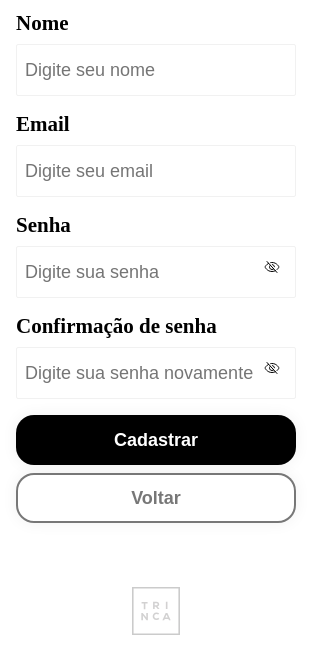
Scenario: SignIn › should hide errors after filling in the fields
Click the button "Cadastrar": (156, 440) x1=16 y1=415 x2=296 y2=465
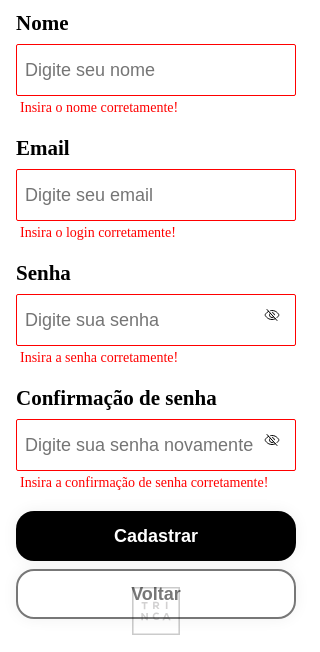
Now the text "Insira o login corretamente!" is shown, box x1=20 y1=225 x2=176 y2=240
Now the text "Insira a senha corretamente!" is shown, box x1=20 y1=350 x2=178 y2=365
In the field with placeholder "Digite seu email": (156, 195) x1=16 y1=169 x2=296 y2=221, type "teste@email.com"
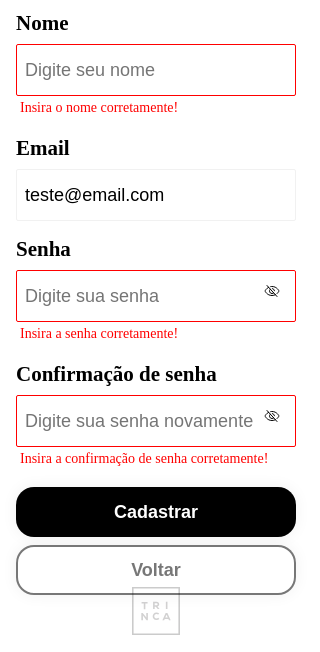
In the password field with placeholder "Digite sua senha": (156, 296) x1=16 y1=270 x2=296 y2=322, type "123456"
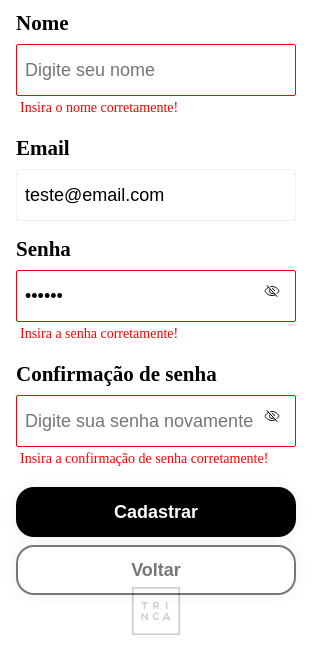
Click the button "Cadastrar": (156, 512) x1=16 y1=487 x2=296 y2=537
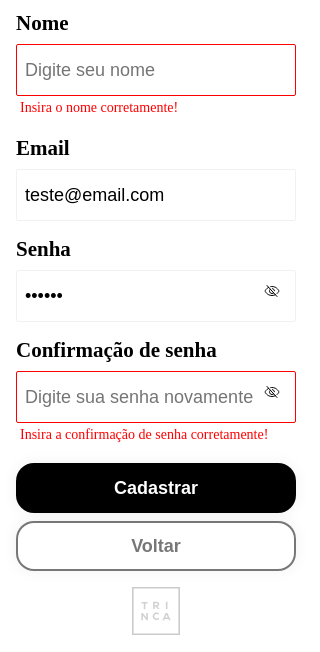
Expected: the text "Insira o login corretamente!" is not shown
Now the text "Insira a senha corretamente!" is gone
